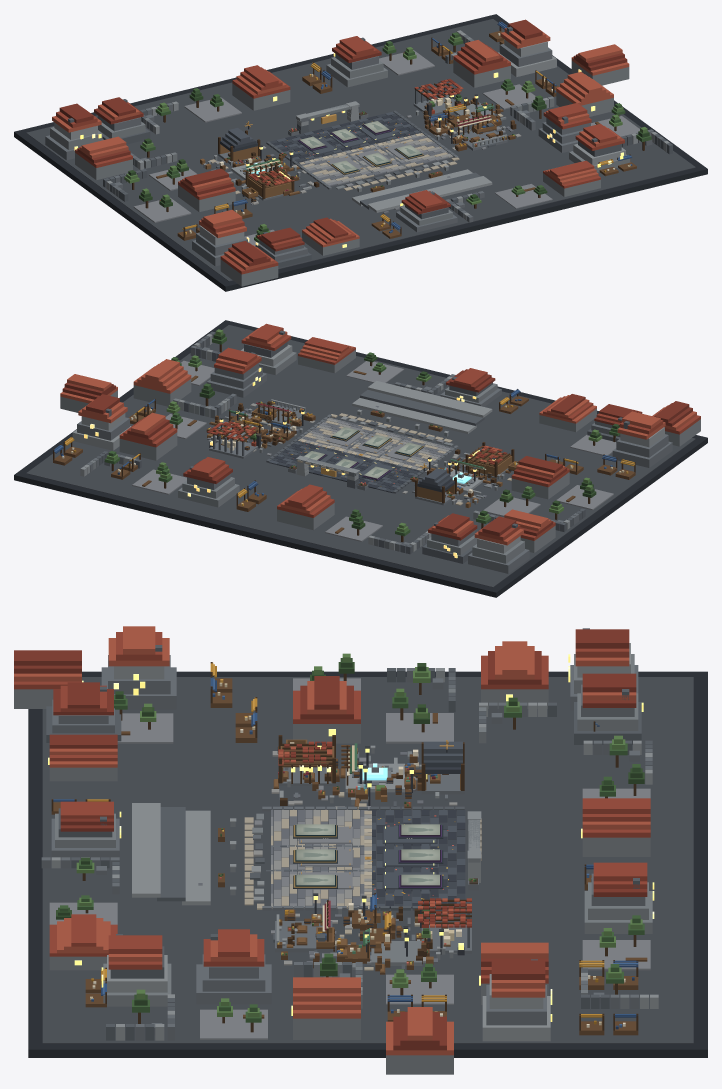
Rendered from city-market.glb.
3 views of the same model, one above another, from view 1: azimuth 30°, elevation 25°; view 2: azimuth 150°, elevation 25°; view 3: azimuth 270°, elevation 25° (orthographic). The views are drawn at different scales.
Parts seen in each view (by area): view 1: 01_City_Street_Base, Outer_Rooftop_Cluster, Outer_Tile_Gable, 00_Deep_City_Bedrock, Outer_Street_Tree_Pocket, Outer_Walled_Courtyard, 02_Central_Market_Cobbles, Outer_Market_Stall_Row, 03_Enemy_Shaded_Cobbles, South_Low_Terrace, East_Guild_Courtyard, West_Lantern_Workshop (+7 smaller); view 2: 01_City_Street_Base, Outer_Rooftop_Cluster, Outer_Tile_Gable, 00_Deep_City_Bedrock, Outer_Street_Tree_Pocket, Outer_Walled_Courtyard, South_Low_Terrace, Outer_Market_Stall_Row, 02_Central_Market_Cobbles, 03_Enemy_Shaded_Cobbles, East_Guild_Courtyard, West_Clock_Bookshop (+7 smaller); view 3: 01_City_Street_Base, Outer_Rooftop_Cluster, Outer_Tile_Gable, 00_Deep_City_Bedrock, Outer_Street_Tree_Pocket, Outer_Walled_Courtyard, South_Low_Terrace, 02_Central_Market_Cobbles, 03_Enemy_Shaded_Cobbles, Outer_Market_Stall_Row, Six_Grounded_Foundations, East_Guild_Courtyard (+11 smaller).
Boxes of the visible parts, x1=… form: 01_City_Street_Base: x1=26, y1=19, x2=695, y2=281; Outer_Rooftop_Cluster: x1=45, y1=19, x2=630, y2=267; Outer_Tile_Gable: x1=75, y1=40, x2=629, y2=286; 00_Deep_City_Bedrock: x1=14, y1=14, x2=707, y2=291; Outer_Street_Tree_Pocket: x1=133, y1=41, x2=639, y2=245; Outer_Walled_Courtyard: x1=103, y1=30, x2=672, y2=222; 02_Central_Market_Cobbles: x1=300, y1=134, x2=453, y2=186; Outer_Market_Stall_Row: x1=177, y1=20, x2=636, y2=240; 03_Enemy_Shaded_Cobbles: x1=270, y1=111, x2=421, y2=163; South_Low_Terrace: x1=352, y1=169, x2=492, y2=213; East_Guild_Courtyard: x1=413, y1=79, x2=500, y2=139; West_Lantern_Workshop: x1=242, y1=163, x2=294, y2=200; 01_City_Street_Base: x1=26, y1=325, x2=695, y2=587; Outer_Rooftop_Cluster: x1=72, y1=323, x2=672, y2=573; Outer_Tile_Gable: x1=60, y1=337, x2=700, y2=552; 00_Deep_City_Bedrock: x1=14, y1=320, x2=707, y2=597; Outer_Street_Tree_Pocket: x1=132, y1=352, x2=620, y2=541; Outer_Walled_Courtyard: x1=80, y1=329, x2=585, y2=554; South_Low_Terrace: x1=352, y1=381, x2=492, y2=433; Outer_Market_Stall_Row: x1=53, y1=389, x2=635, y2=511; 02_Central_Market_Cobbles: x1=300, y1=417, x2=452, y2=469; 03_Enemy_Shaded_Cobbles: x1=268, y1=440, x2=421, y2=493; East_Guild_Courtyard: x1=207, y1=415, x2=299, y2=458; West_Clock_Bookshop: x1=415, y1=468, x2=456, y2=505; 01_City_Street_Base: x1=42, y1=677, x2=693, y2=1043; Outer_Rooftop_Cluster: x1=46, y1=626, x2=652, y2=1041; Outer_Tile_Gable: x1=14, y1=641, x2=650, y2=1074; 00_Deep_City_Bedrock: x1=28, y1=671, x2=707, y2=1057; Outer_Street_Tree_Pocket: x1=49, y1=653, x2=650, y2=1039; Outer_Walled_Courtyard: x1=41, y1=663, x2=658, y2=1040; South_Low_Terrace: x1=132, y1=803, x2=210, y2=905; 02_Central_Market_Cobbles: x1=266, y1=809, x2=367, y2=908; 03_Enemy_Shaded_Cobbles: x1=368, y1=809, x2=465, y2=908; Outer_Market_Stall_Row: x1=51, y1=662, x2=638, y2=1035; Six_Grounded_Foundations: x1=298, y1=826, x2=437, y2=891; East_Guild_Courtyard: x1=335, y1=898, x2=471, y2=967.
Size of the model in its own units: 53.4 by 4.16 by 38.8.
Materials: 61 (1 with a texture image).
